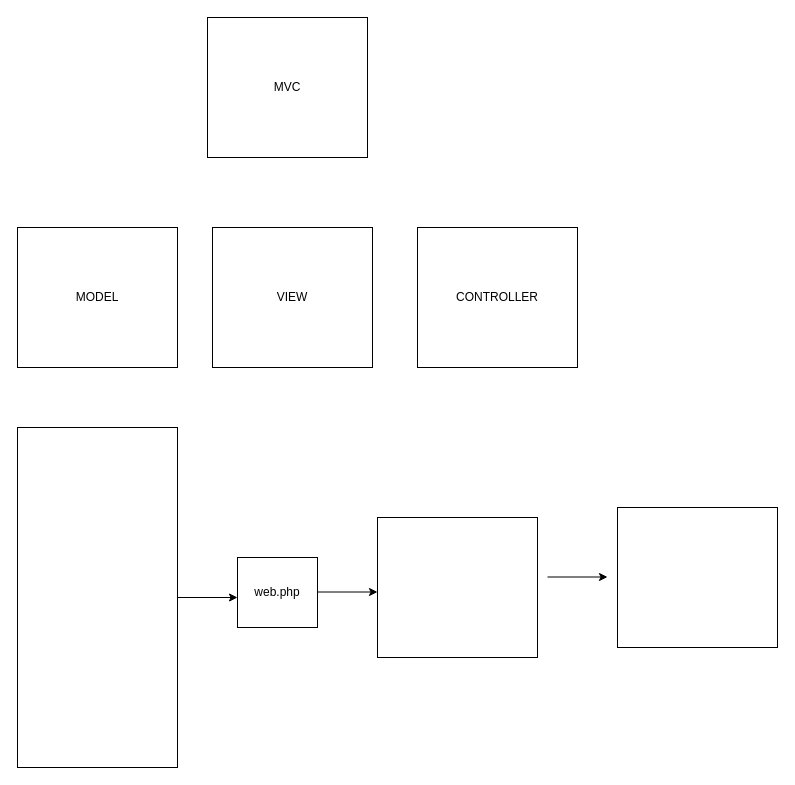
The diagram is 795 pixels wide and 785 high, and some of its shapes have lost their labels. Each missing label, with the box of its shape:
AccountController (Login): (376, 516, 538, 658)
view / HTML PAGE /login: (16, 426, 178, 768)
